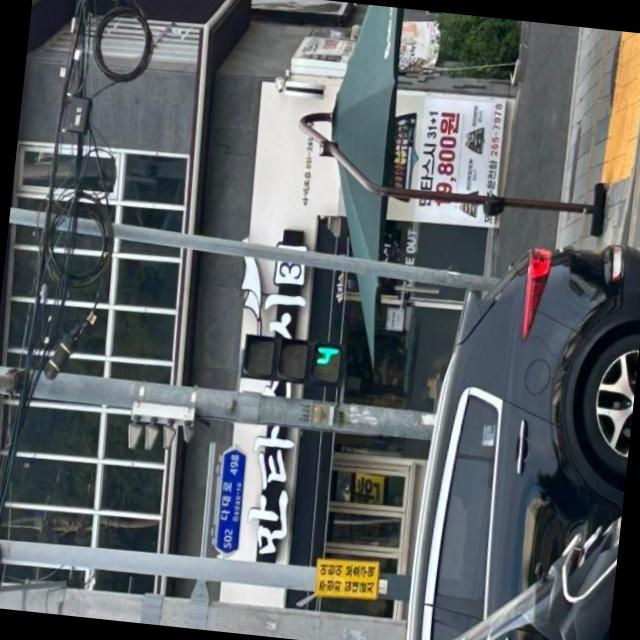green_light: (308, 344, 342, 381)
